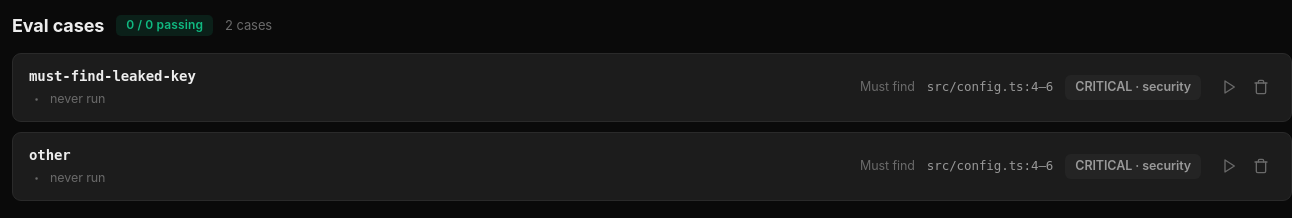
Test: CaseList — run a case (AC-66…71) › disables only the row that is running (AC-68)
Click the button named "Run must-find-leaked-key". click: click(1229, 87)
box: [1215,73,1243,101]
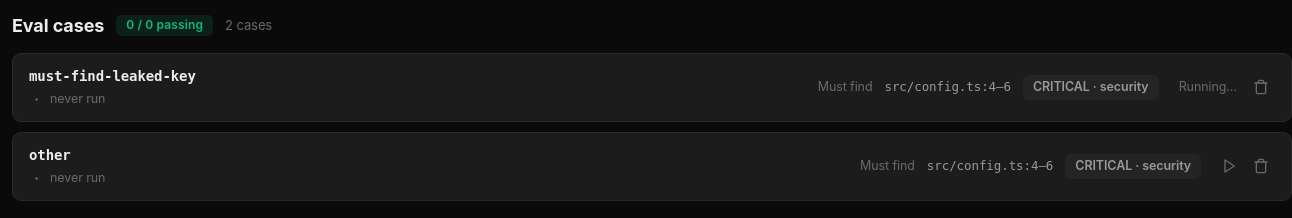
Expected: the button named "Run other" is enabled, [1215,152,1243,180]
Expected: the button with aria-label "Run must-find-leaked-key" is disabled, [1173,72,1243,103]
